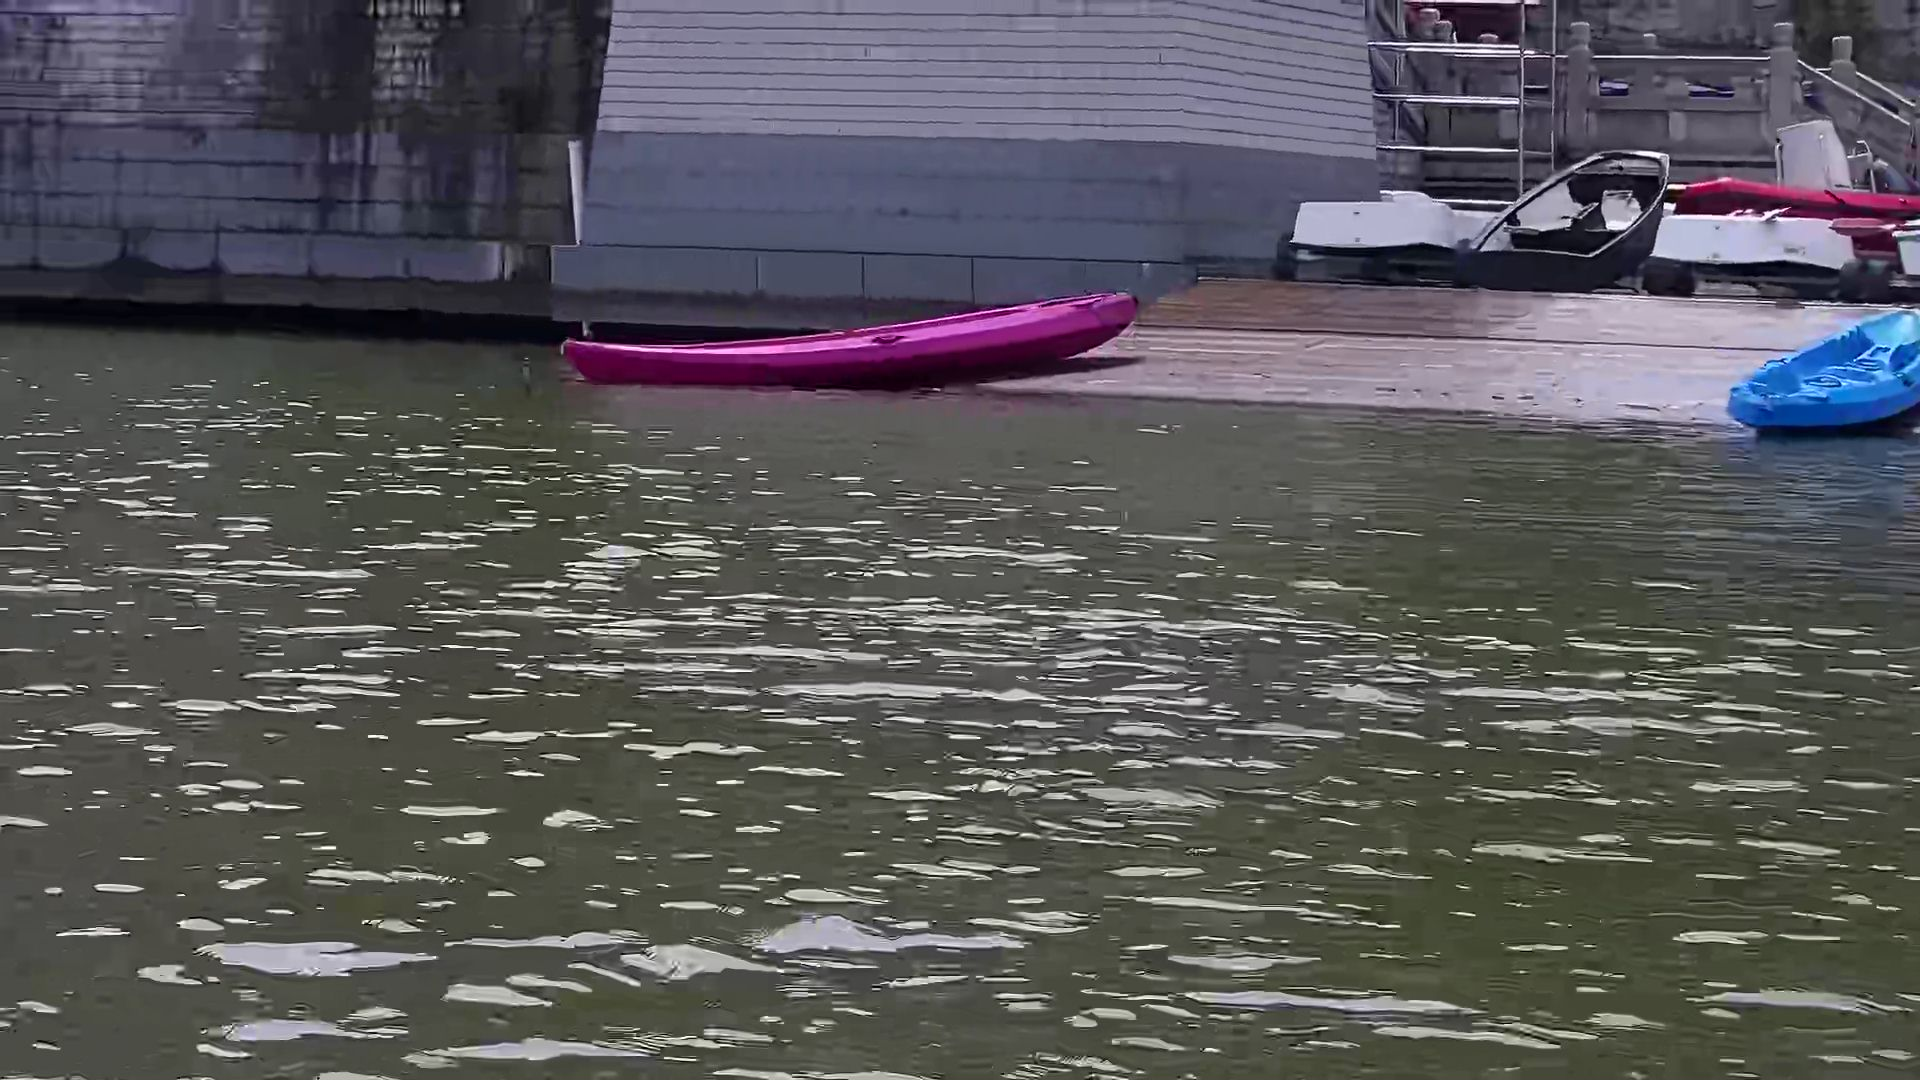boat: (558, 287, 1156, 396), (1727, 298, 1917, 442)
